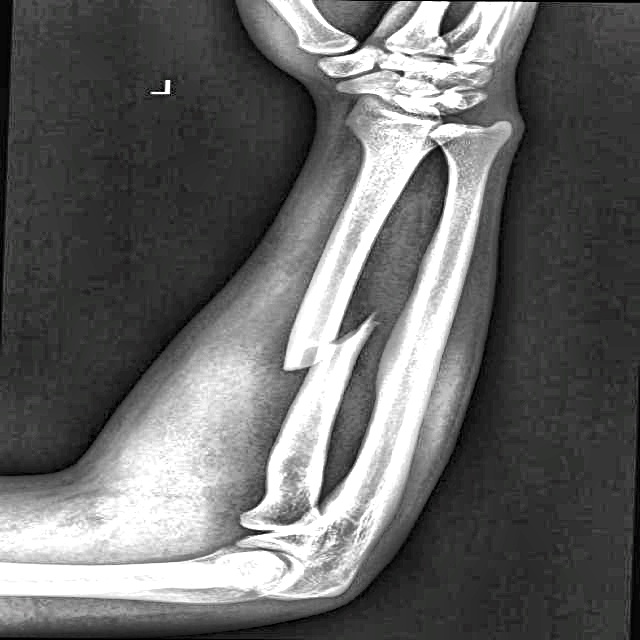Oblique: (265, 292, 376, 390)
